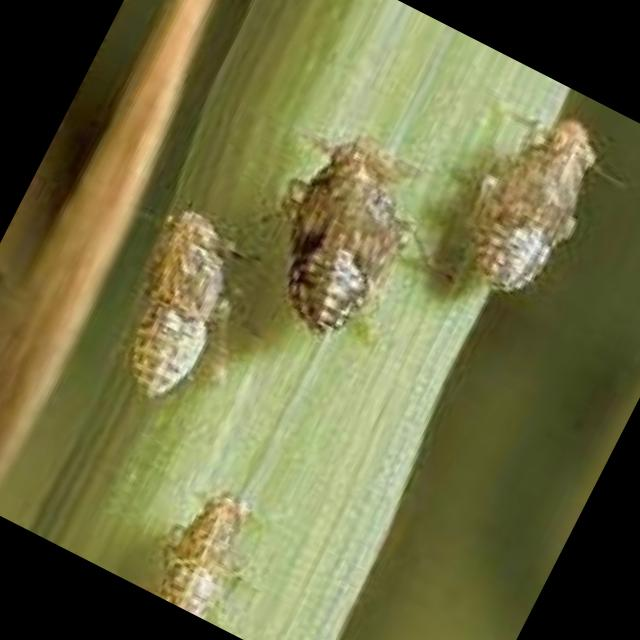brown-planthopper: (252, 129, 437, 354), (89, 197, 265, 419), (452, 95, 629, 314), (143, 474, 276, 627)
